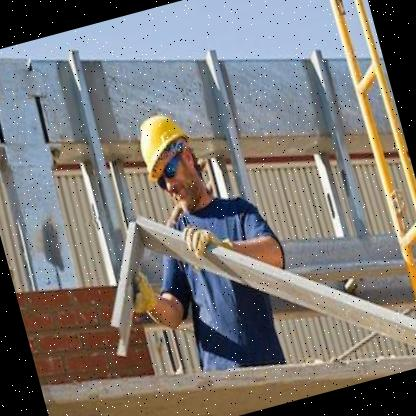capacete: (128, 104, 198, 180)
